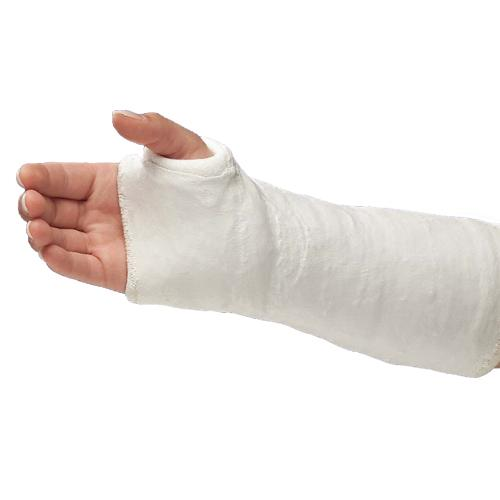bandage: (114, 147, 500, 387)
